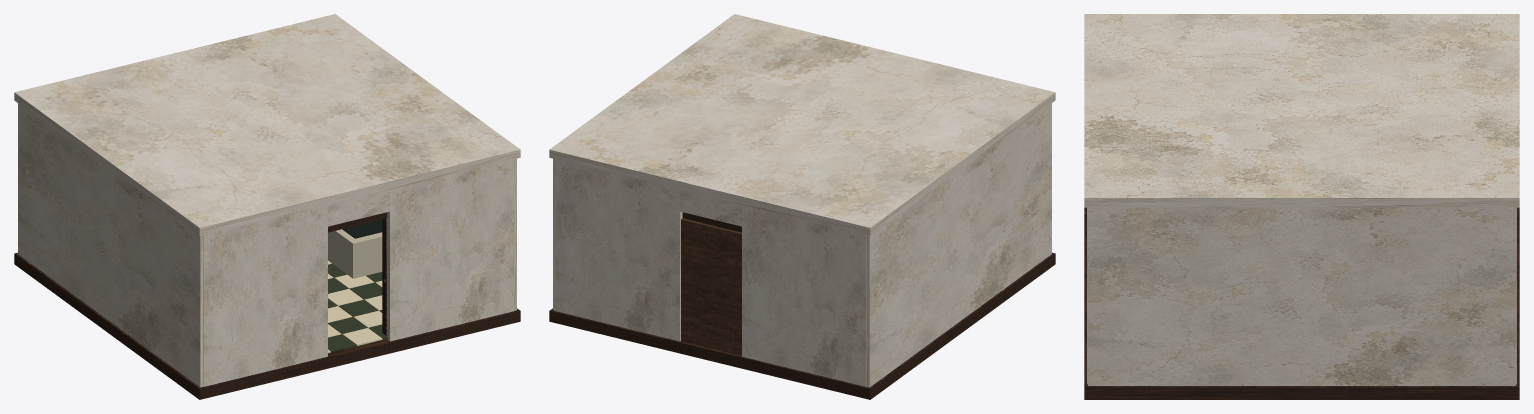
Rendered from bathroom.glb.
The picture shows the model from 3 angles, left to right: view 1: azimuth 30°, elevation 25°; view 2: azimuth 150°, elevation 25°; view 3: azimuth 270°, elevation 25°; orthographic projection. The views are drawn at different scales.
Parts seen in each view (by area): view 1: ceiling, part_72, part_111, part_108, floor, bathtub, part_114, part_116, tub_inside, part_85; view 2: ceiling, part_72, part_101, part_98, exit_door, floor, part_104, part_85; view 3: ceiling, part_85, floor.
Boxes of the visible parts, x1,y1,x2,y2 form: ceiling: (14, 14, 520, 235); part_72: (18, 103, 203, 387); part_111: (386, 159, 514, 341); part_108: (203, 205, 327, 386); floor: (14, 252, 520, 399); bathtub: (328, 229, 382, 278); part_114: (328, 189, 389, 226); part_116: (382, 218, 386, 335); tub_inside: (342, 219, 382, 238); part_85: (514, 158, 516, 310); ceiling: (549, 14, 1055, 235); part_72: (866, 103, 1051, 387); part_101: (555, 159, 682, 341); part_98: (742, 205, 866, 386); exit_door: (681, 218, 741, 355); floor: (549, 252, 1055, 399); part_104: (680, 189, 741, 226); part_85: (553, 158, 555, 310); ceiling: (1084, 14, 1519, 207); part_85: (1088, 207, 1515, 385); floor: (1084, 207, 1519, 399).
Size of the model in its own units: 6.2 by 3.18 by 6.2.
Materials: 8 (4 with a texture image).
